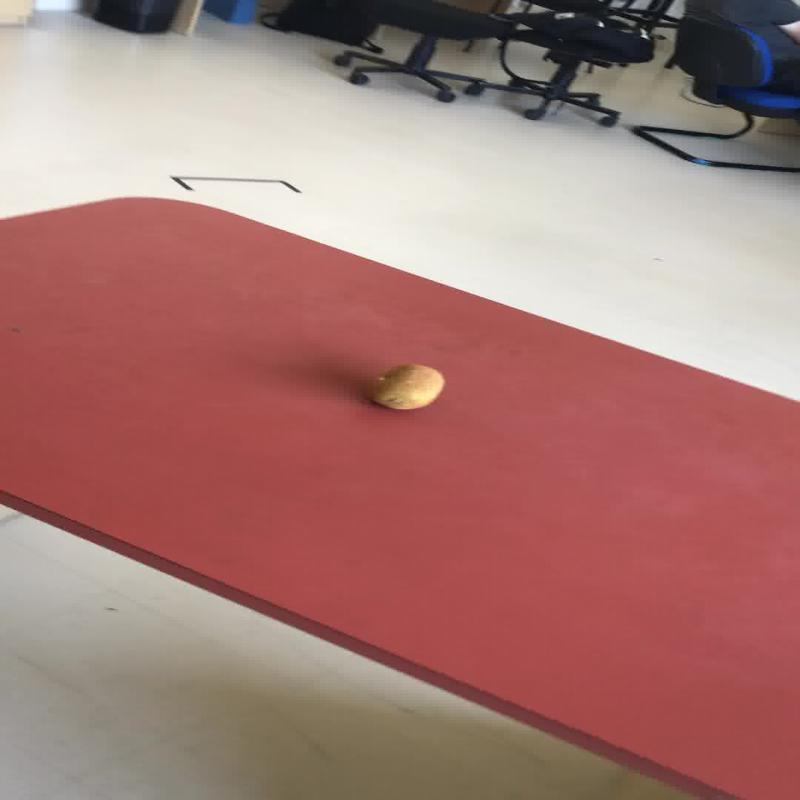kiwi: (370, 362, 445, 410)
